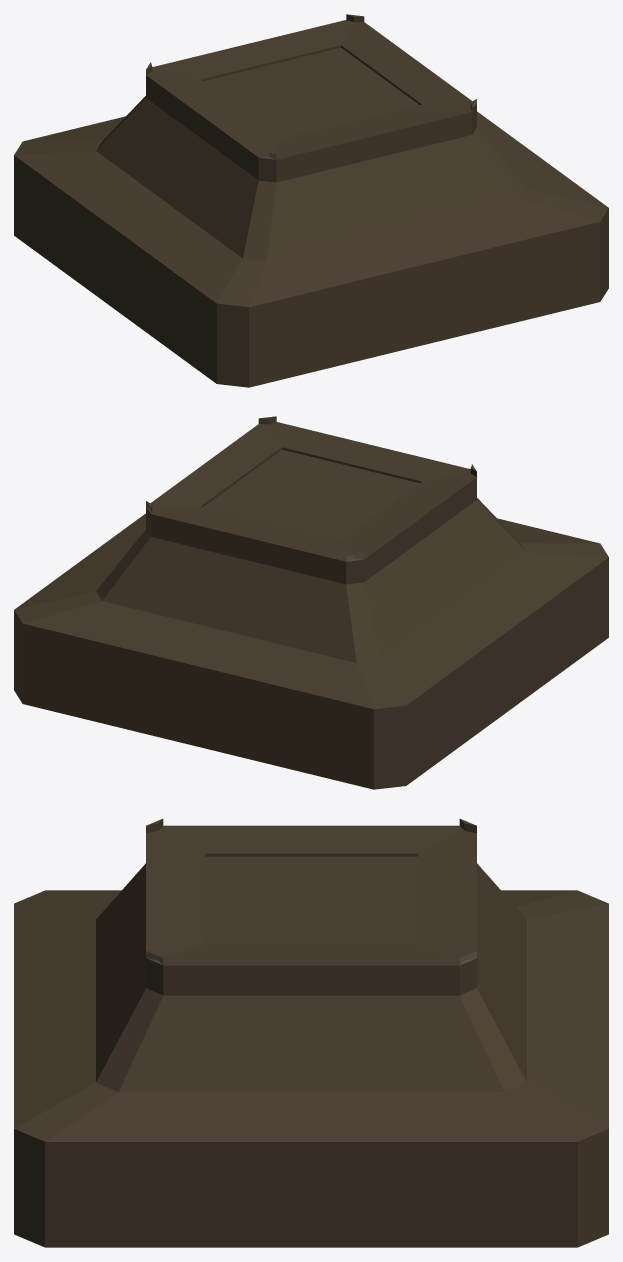
Rendered from База.fbx.
3 renders of one model, top to bottom at view 1: azimuth 30°, elevation 25°; view 2: azimuth 150°, elevation 25°; view 3: azimuth 270°, elevation 25°, orthographic. The views are drawn at different scales.
Parts seen in each view (by area): view 1: Entry, EntryRight, EntryLeft; view 2: Entry, EntryRight, EntryLeft; view 3: Entry, EntryLeft, EntryRight.
Boxes of the visible parts, x1,y1,x2,y2 form: Entry: [14, 14, 608, 387]; EntryRight: [260, 47, 419, 124]; EntryLeft: [203, 67, 350, 138]; Entry: [14, 416, 608, 789]; EntryRight: [203, 449, 362, 526]; EntryLeft: [272, 469, 419, 540]; Entry: [14, 818, 608, 1247]; EntryLeft: [205, 856, 417, 908]; EntryRight: [205, 894, 417, 943].
Bounding box in the file's own units: 3597 × 3597 × 1558.
